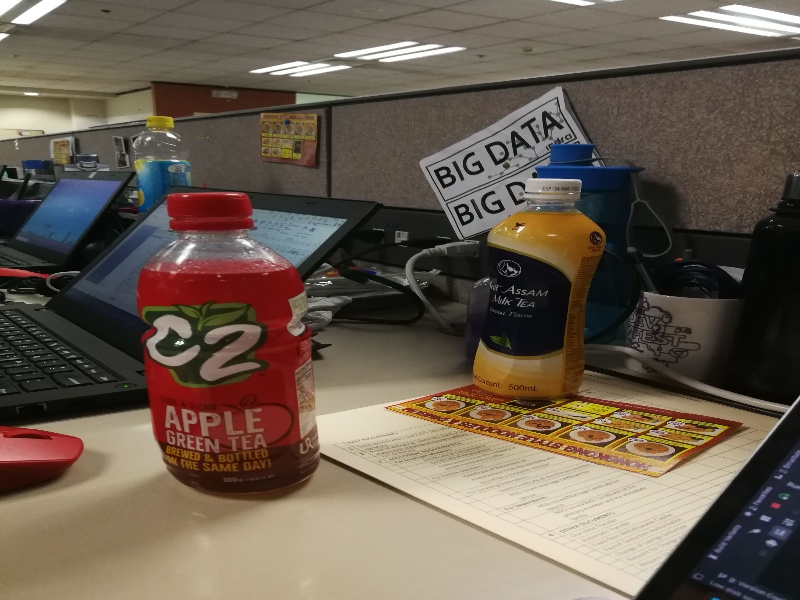PET #1: (144, 195, 323, 499), (470, 173, 601, 404), (125, 111, 190, 213)
